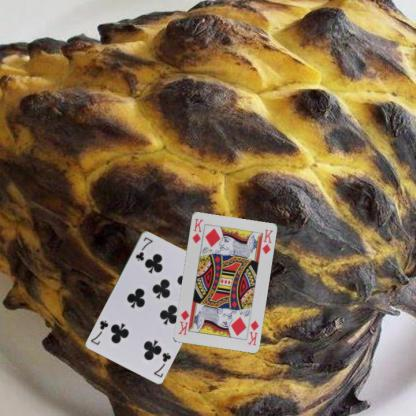7c: (133, 234, 154, 262), (151, 350, 172, 378)
Kd: (245, 318, 260, 347), (190, 216, 204, 245)
